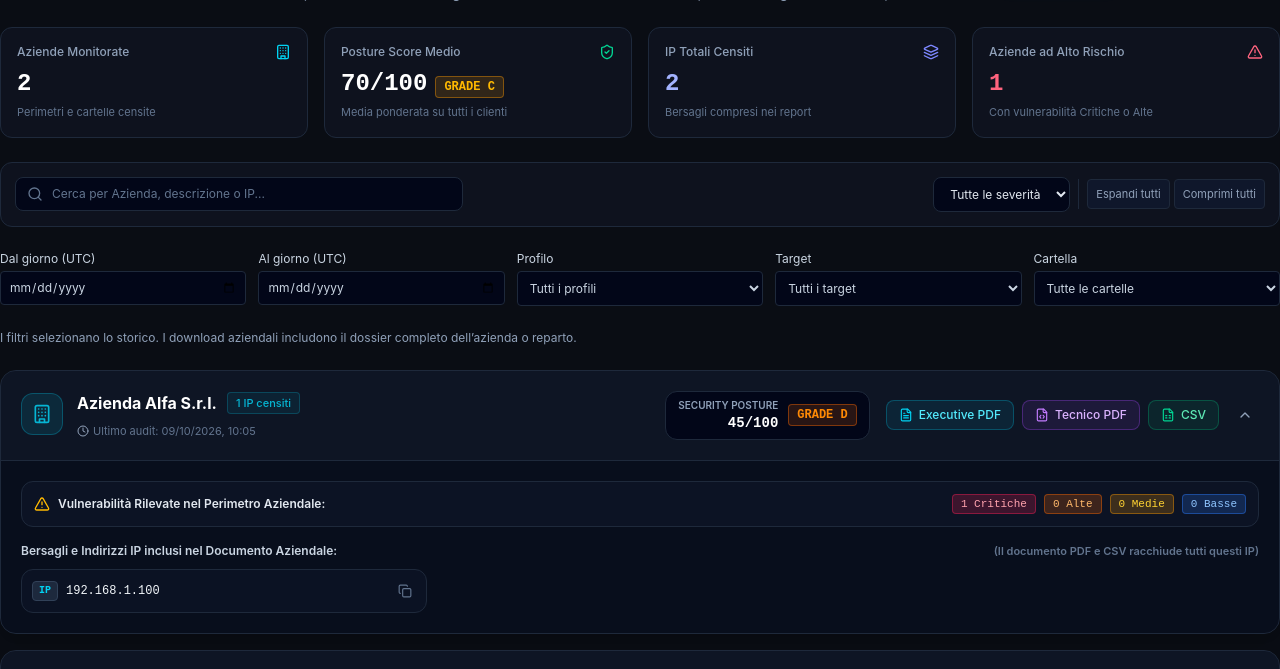
Test: Reports Page - Multi-Company Scope & Target IP Inspection › combines profile and inclusive date filters, with a visible invalid-period error
Expected: the heading "Azienda Alfa S.r.l." is shown, [77, 391, 217, 415]
Select "Fast Network Audit" in the dropdown labelled "Profilo" at (640, 288), box [517, 270, 763, 306]
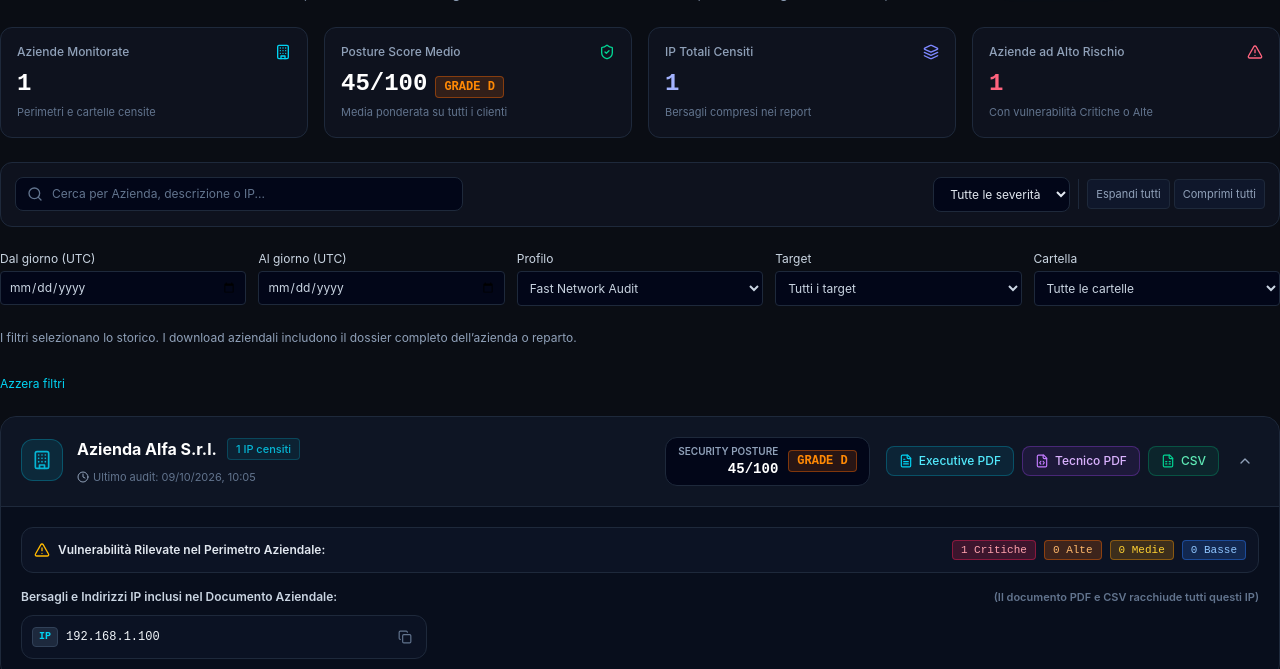
Type "2026-10-10" into the date field labelled "Dal giorno (UTC)" at (123, 288), box [0, 270, 246, 304]
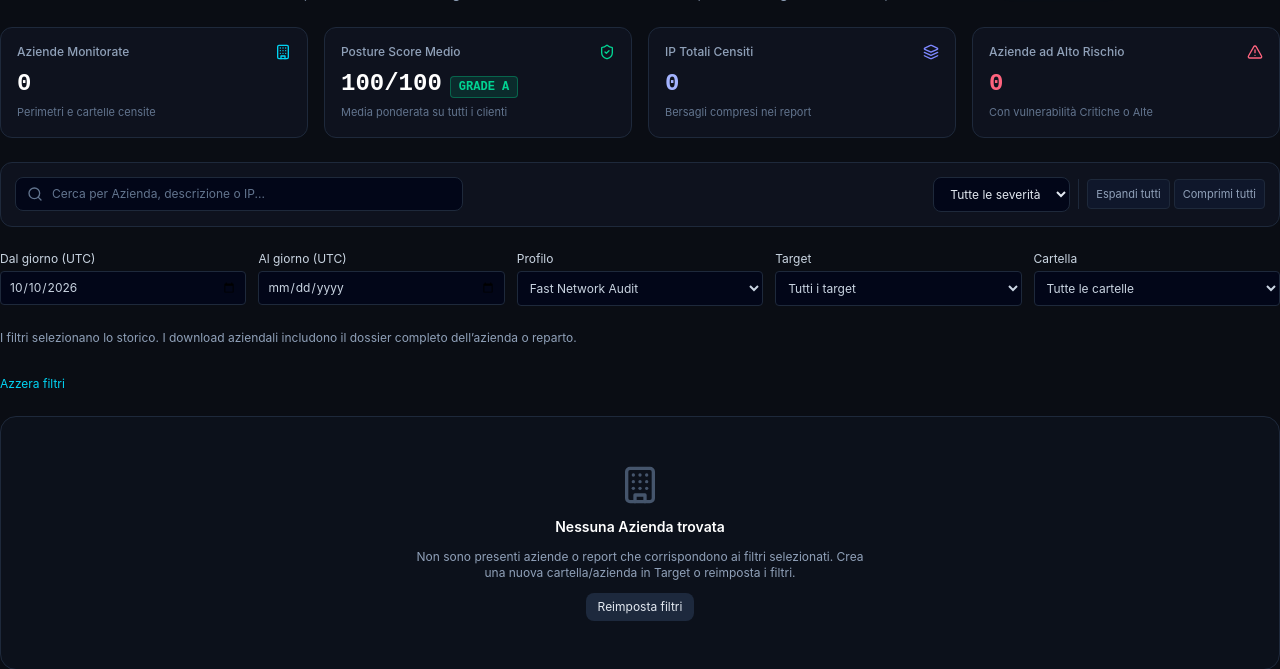
Type "2026-10-09" into the date field labelled "Al giorno (UTC)" at (382, 288), box [258, 270, 505, 304]
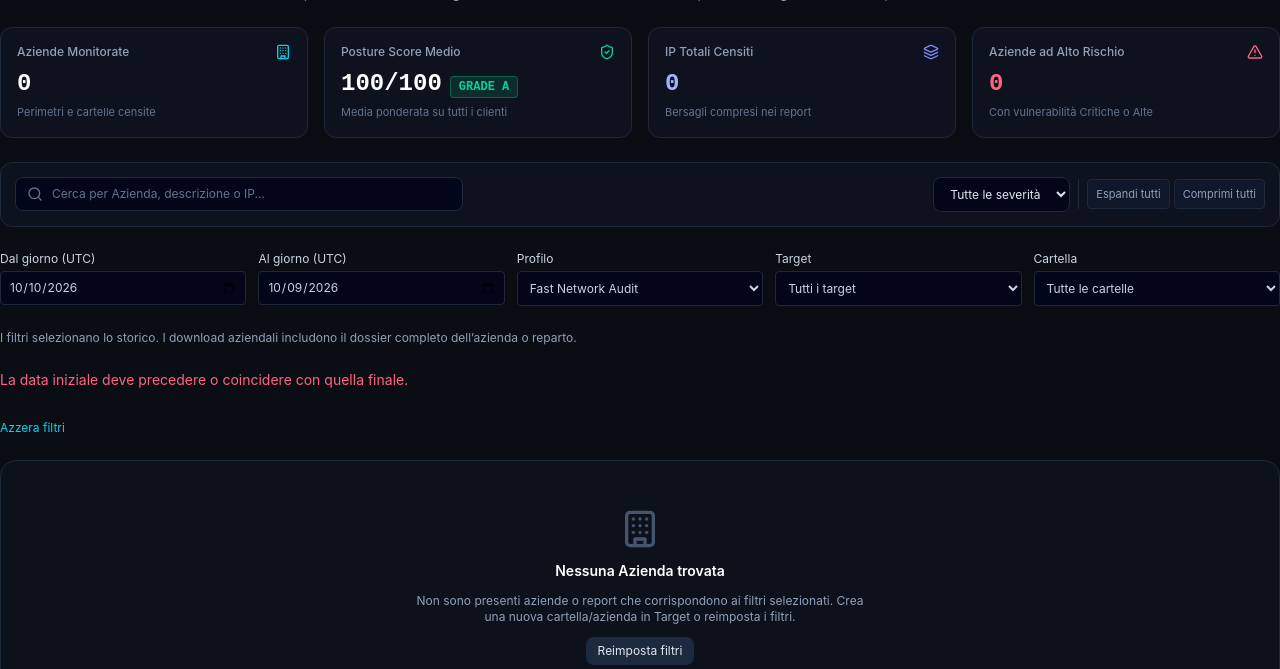
Expected: the heading "Azienda Alfa S.r.l." is not shown
Now the message shows "data iniziale", box [0, 370, 408, 388]
Click the button "Azzera filtri" at (32, 428), box [0, 420, 65, 436]
(page scrolled)
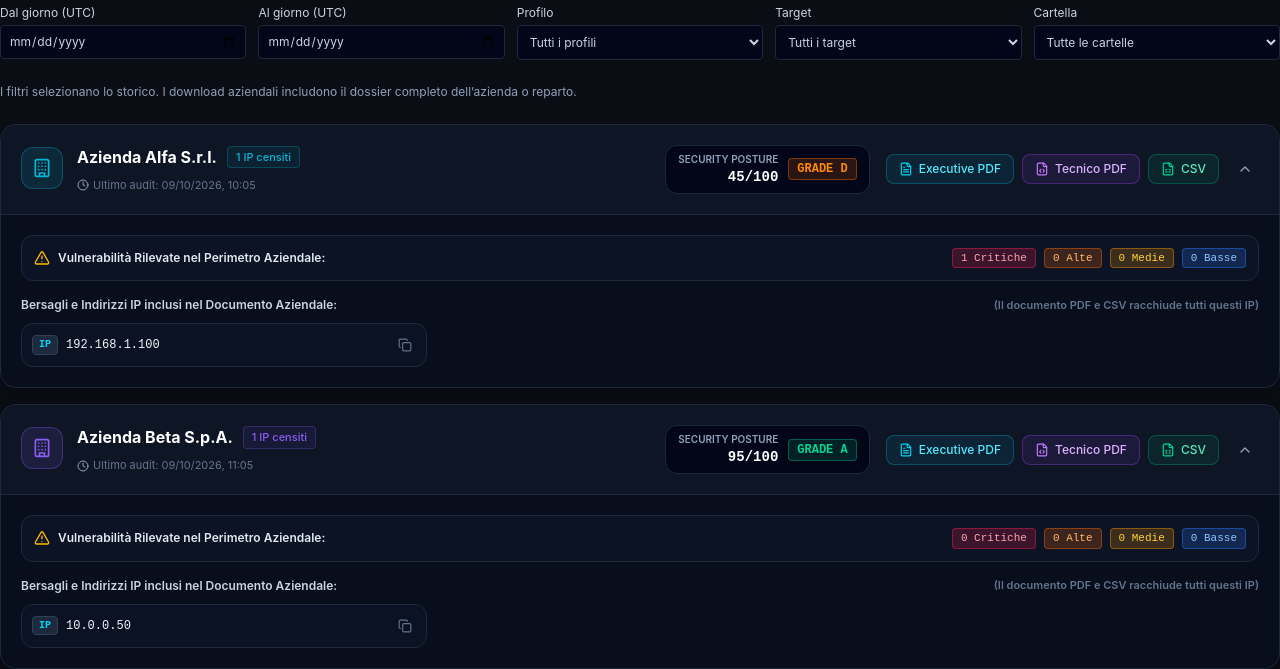
Now the heading "Azienda Beta S.p.A." is shown, box [77, 425, 233, 449]
